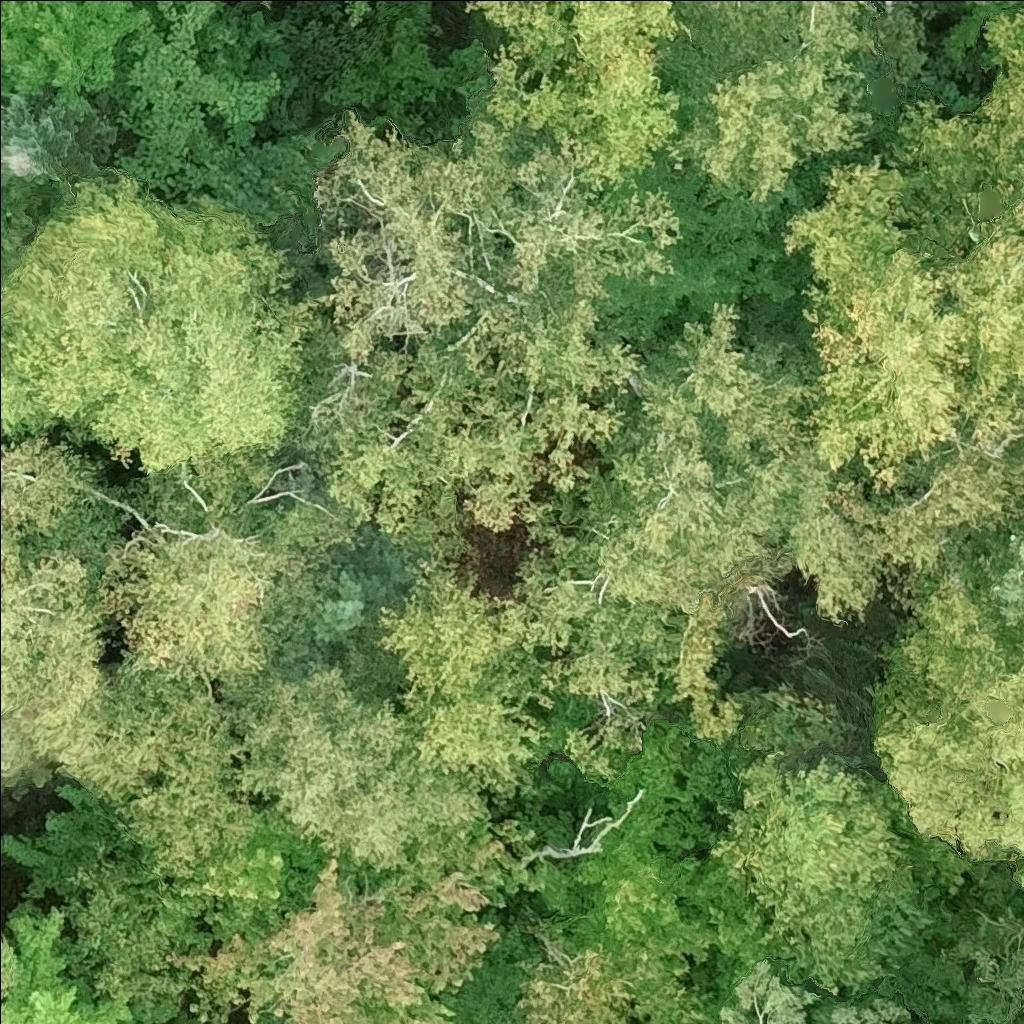crown: (511, 304, 1023, 774), (305, 294, 646, 562), (318, 113, 678, 356), (784, 154, 1023, 489), (89, 450, 364, 688), (0, 175, 266, 419), (198, 667, 491, 871), (170, 859, 504, 1023), (93, 238, 320, 475), (706, 757, 909, 995), (375, 553, 562, 802), (60, 649, 257, 875), (872, 580, 1023, 862), (673, 0, 882, 201), (470, 0, 692, 189), (883, 8, 1023, 264), (114, 0, 281, 190), (279, 516, 421, 713), (0, 523, 106, 759), (0, 435, 134, 595), (0, 0, 150, 119), (184, 122, 347, 226), (1, 908, 141, 1023), (0, 96, 119, 217), (721, 958, 912, 1023), (512, 937, 633, 1023), (0, 312, 64, 432), (0, 203, 35, 293), (996, 521, 1023, 626), (0, 930, 18, 1023), (344, 0, 376, 22), (1014, 993, 1023, 1023), (265, 0, 273, 3), (1022, 865, 1023, 882)
